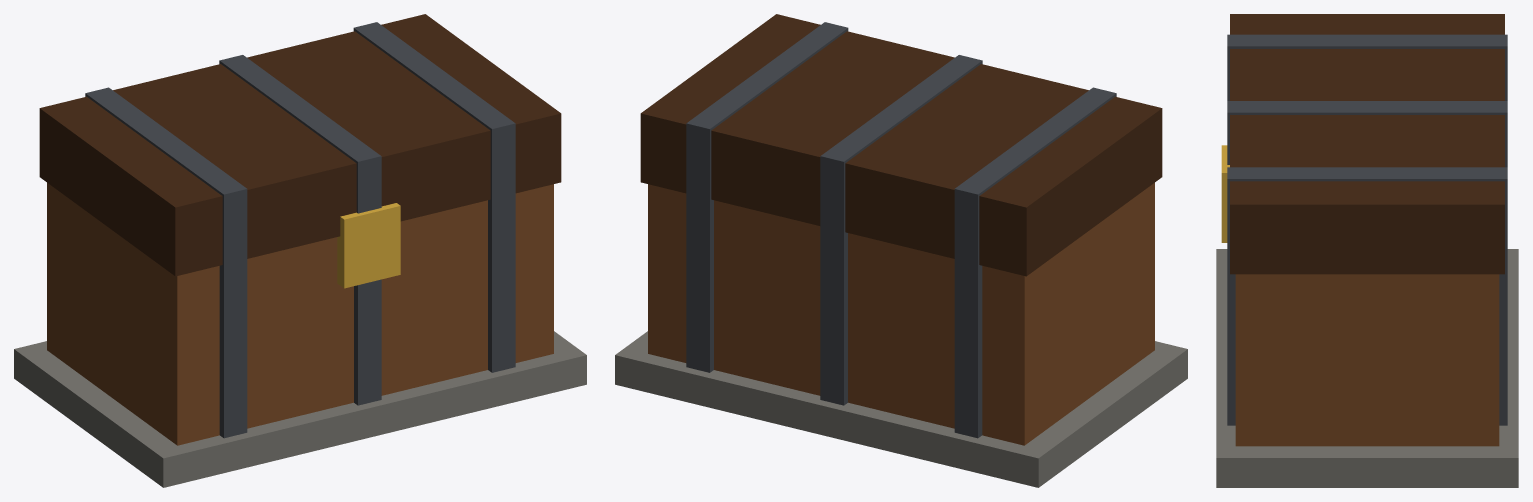
The model's file is camp_stash.glb.
3 views of the same model, side by side, from view 1: azimuth 30°, elevation 25°; view 2: azimuth 150°, elevation 25°; view 3: azimuth 270°, elevation 25° (orthographic).
Visible parts, largest first — view 1: camp_stash; view 2: camp_stash; view 3: camp_stash.
Boxes of the visible parts, x1,y1,x2,y2 form: camp_stash: [14, 14, 586, 487]; camp_stash: [615, 14, 1187, 487]; camp_stash: [1216, 14, 1518, 487].
Bounding box in the file's own units: 1.8 × 1.11 × 1.1.
1 material, 1 textured.
